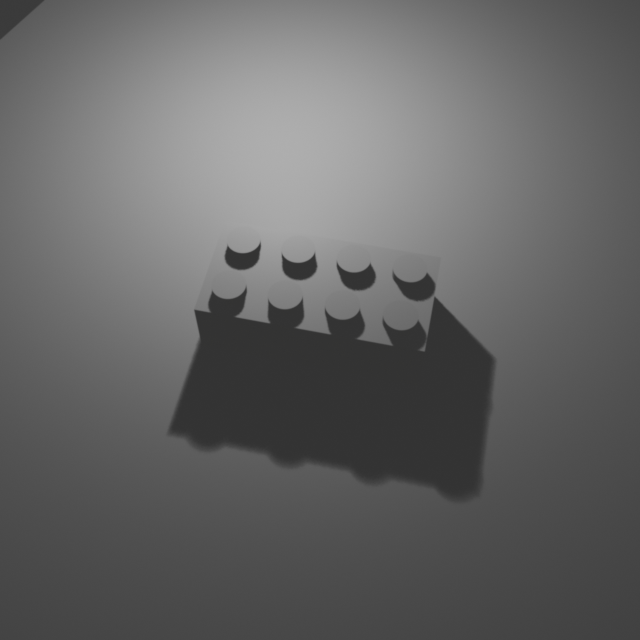lego_2x4: (193, 214, 443, 386)
